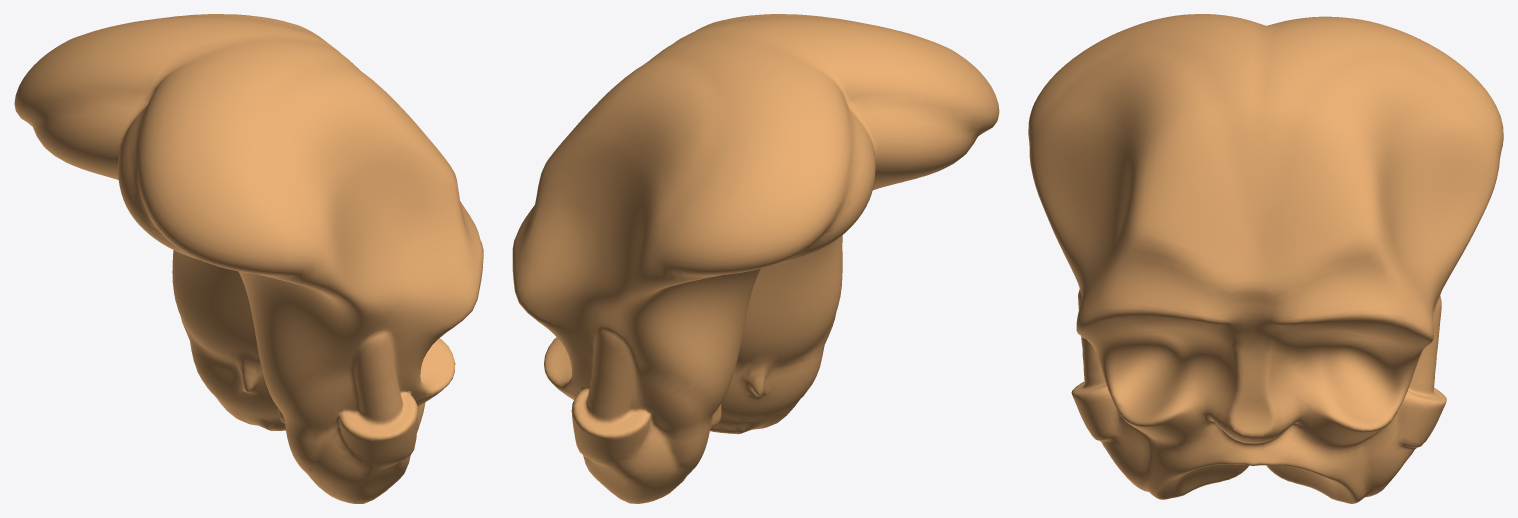
Rendered from head.fbx.
3 renders of one model, left to right at view 1: azimuth 30°, elevation 25°; view 2: azimuth 150°, elevation 25°; view 3: azimuth 270°, elevation 25°, orthographic. The views are drawn at different scales.
Visible parts, largest first — view 1: head; view 2: head; view 3: head.
Part boxes in pixels (bbox=[...]): head: bbox=[14, 14, 483, 503]; head: bbox=[512, 14, 999, 503]; head: bbox=[1028, 14, 1503, 503].
Bounding box in the file's own units: 0.2678 × 0.318 × 0.327.
